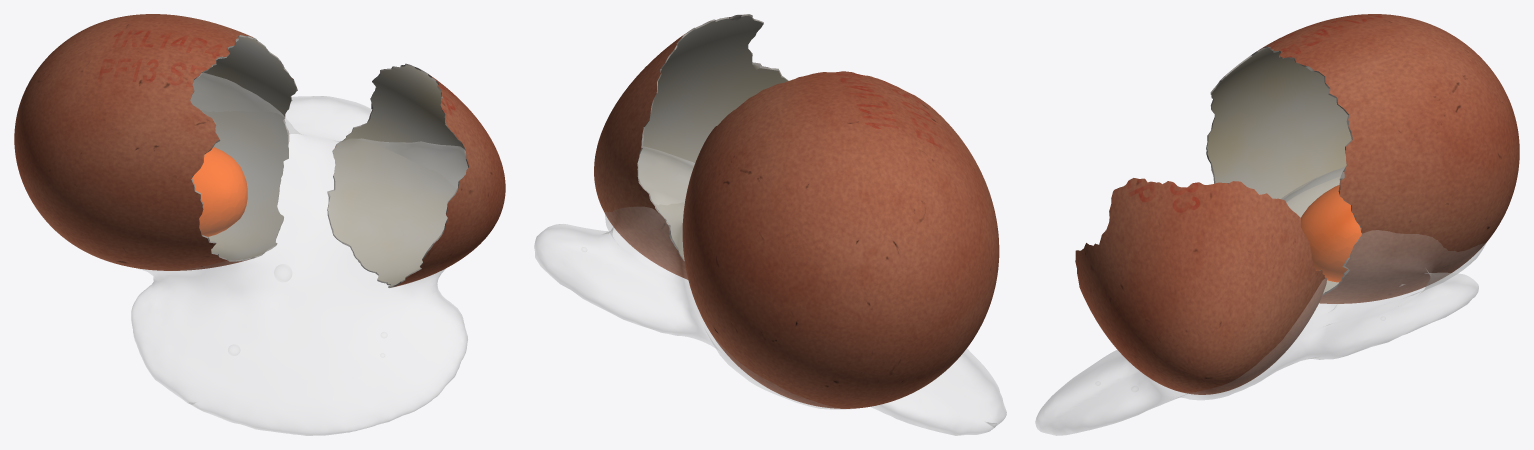
The model's file is eggv2.glb.
The picture shows the model from 3 angles, left to right: view 1: azimuth 30°, elevation 25°; view 2: azimuth 150°, elevation 25°; view 3: azimuth 270°, elevation 25°; orthographic projection. The views are drawn at different scales.
Visible parts, largest first — view 1: blanc, Bake_target, Bake_target.001, jaune; view 2: Bake_target, blanc, Bake_target.001; view 3: Bake_target, Bake_target.001, blanc, jaune.
Part boxes in pixels (left/top/right/bottom): blanc: left=131, top=73, right=467, bottom=435; Bake_target: left=14, top=14, right=297, bottom=270; Bake_target.001: left=327, top=63, right=505, bottom=287; jaune: left=192, top=147, right=247, bottom=236; Bake_target: left=682, top=71, right=999, bottom=408; blanc: left=534, top=146, right=1006, bottom=435; Bake_target.001: left=594, top=14, right=788, bottom=279; Bake_target: left=1206, top=14, right=1519, bottom=303; Bake_target.001: left=1075, top=178, right=1326, bottom=394; blanc: left=1035, top=166, right=1486, bottom=435; jaune: left=1301, top=185, right=1361, bottom=282.
Size of the model in its own units: 1.92 by 1.54 by 1.89.
7 materials, 2 textured.
